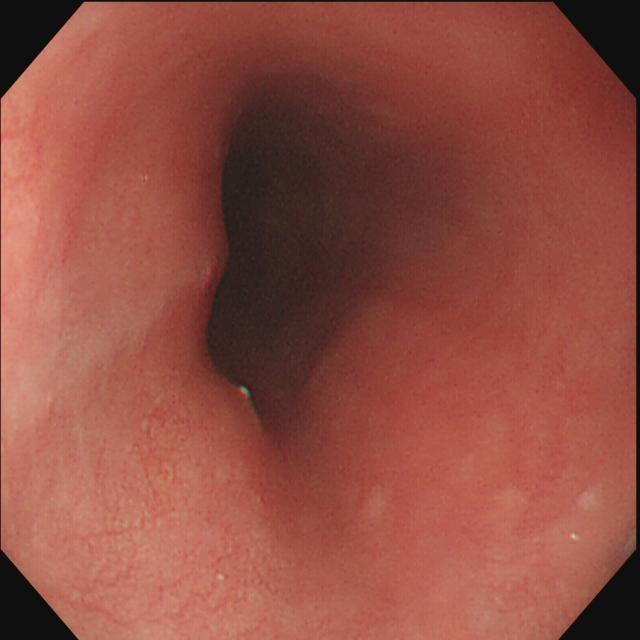E: (208, 141, 342, 423)
